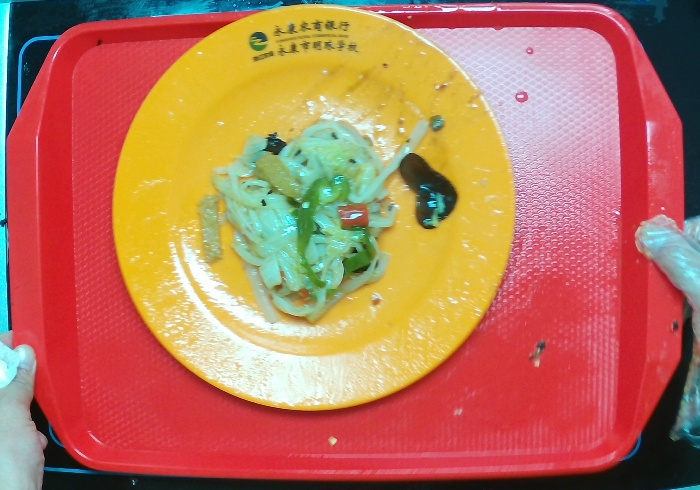YKMZ-Ju_Se_Mian_Pan: (111, 4, 513, 413)
